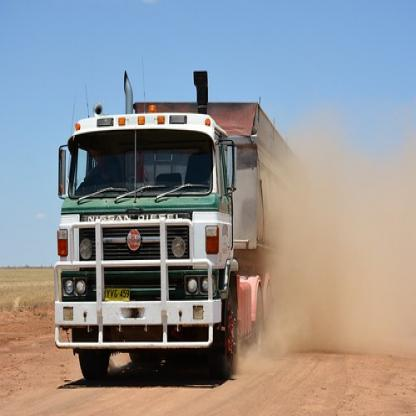dump_truck: (51, 70, 342, 382)
